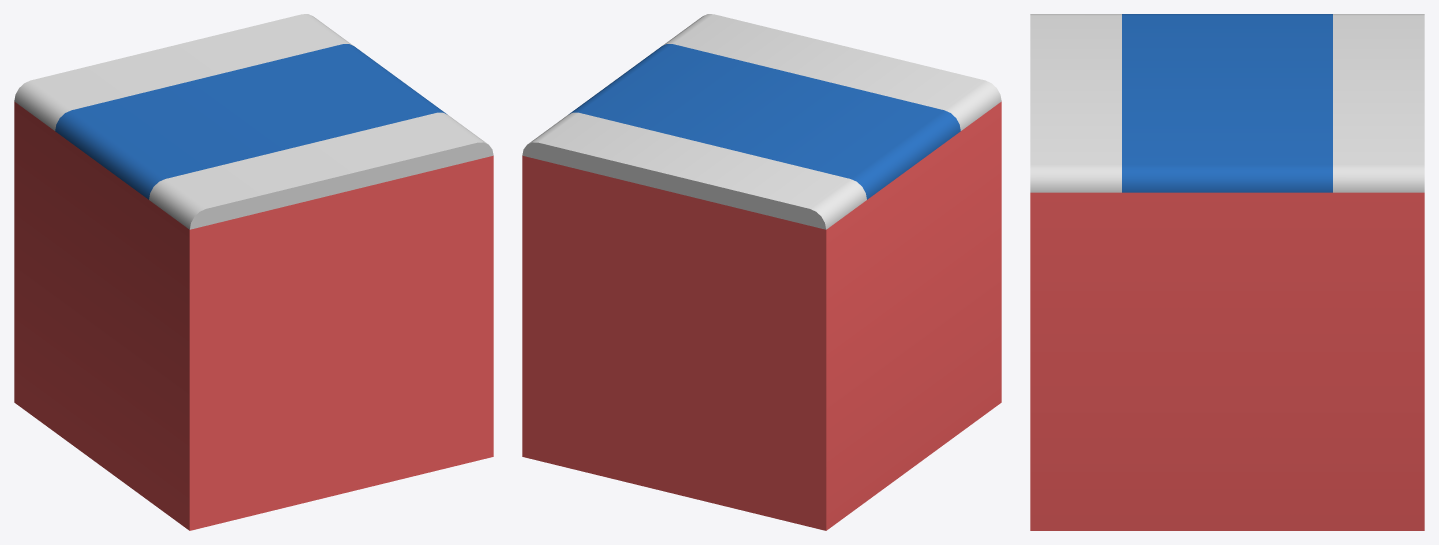
The model's file is CubeForTile_05.1.2.fbx.
3 views of the same model, side by side, from view 1: azimuth 30°, elevation 25°; view 2: azimuth 150°, elevation 25°; view 3: azimuth 270°, elevation 25° (orthographic). The views are drawn at different scales.
Visible parts, largest first — view 1: CubeForTile_05.1.2; view 2: CubeForTile_05.1.2; view 3: CubeForTile_05.1.2.
Boxes of the visible parts, x1,y1,x2,y2 form: CubeForTile_05.1.2: (14,14,493,530); CubeForTile_05.1.2: (522,14,1001,530); CubeForTile_05.1.2: (1030,14,1424,530).
Size of the model in its own units: 200 by 200 by 200.
